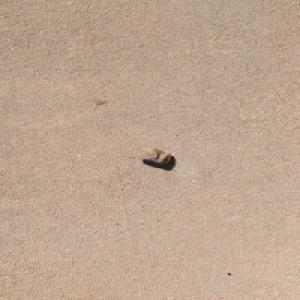Rock: (137, 147, 172, 165)
